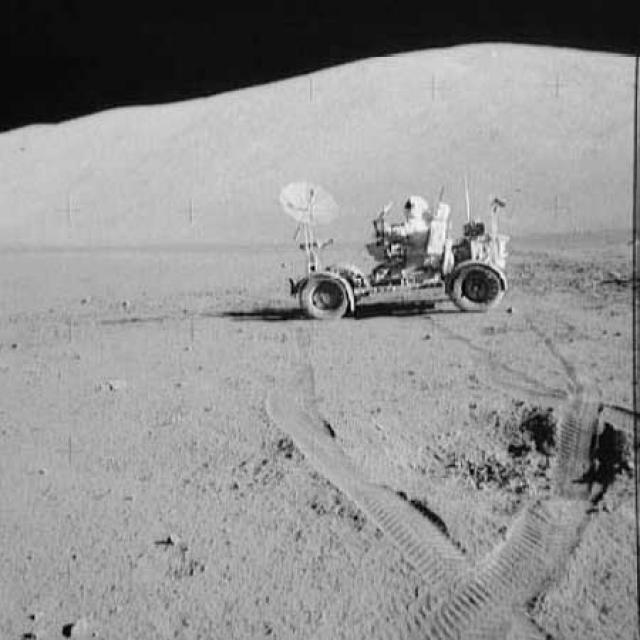artifact: (266, 172, 518, 324)
crater: (337, 394, 639, 511)
